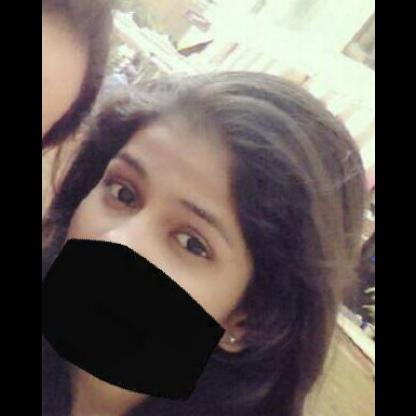Fabric/Cloth Mask: (77, 136, 240, 356)
